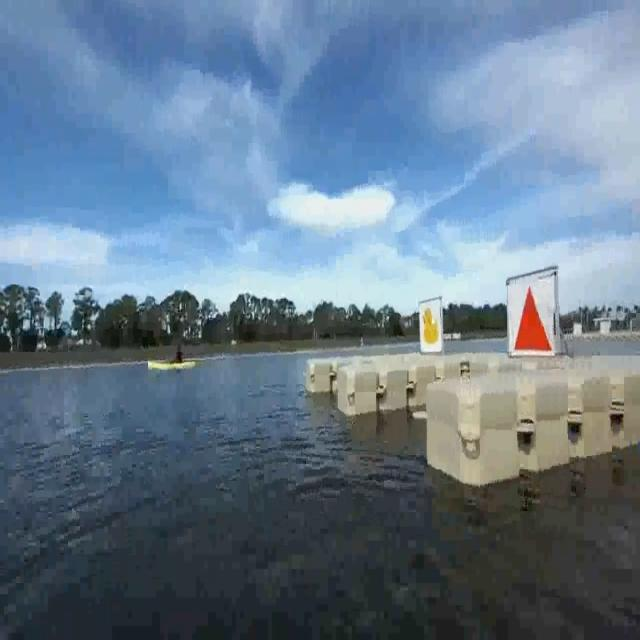red-dot: (509, 283, 555, 352)
yellow-duck: (422, 305, 443, 353)
